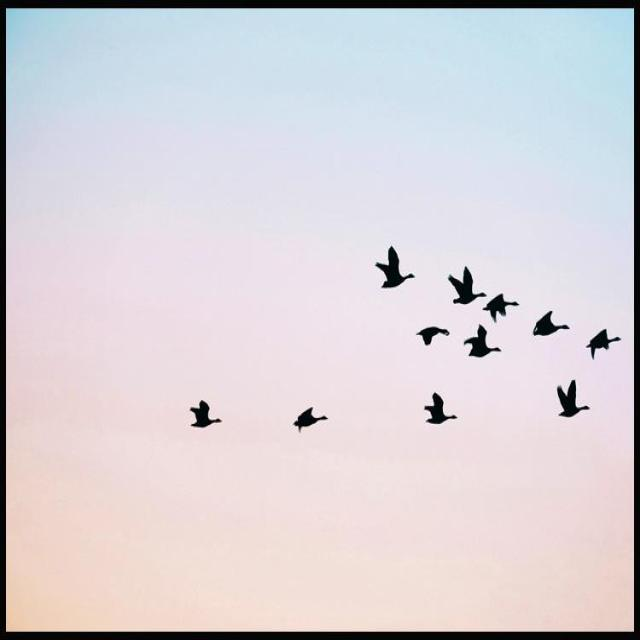bird: (373, 244, 418, 291), (446, 265, 488, 306), (555, 378, 592, 420), (462, 322, 503, 358), (481, 288, 521, 324), (422, 389, 458, 426), (584, 327, 622, 362), (187, 396, 224, 431), (292, 404, 330, 436), (531, 308, 571, 338), (413, 324, 451, 348)
